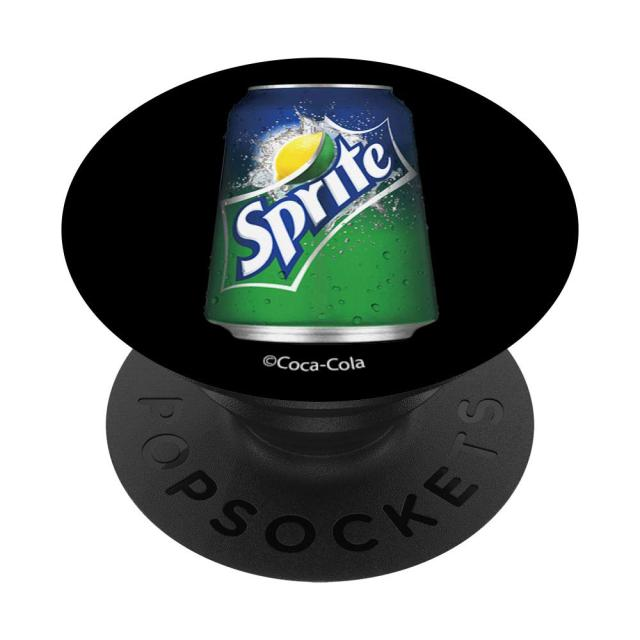sprite: (211, 88, 443, 343)
